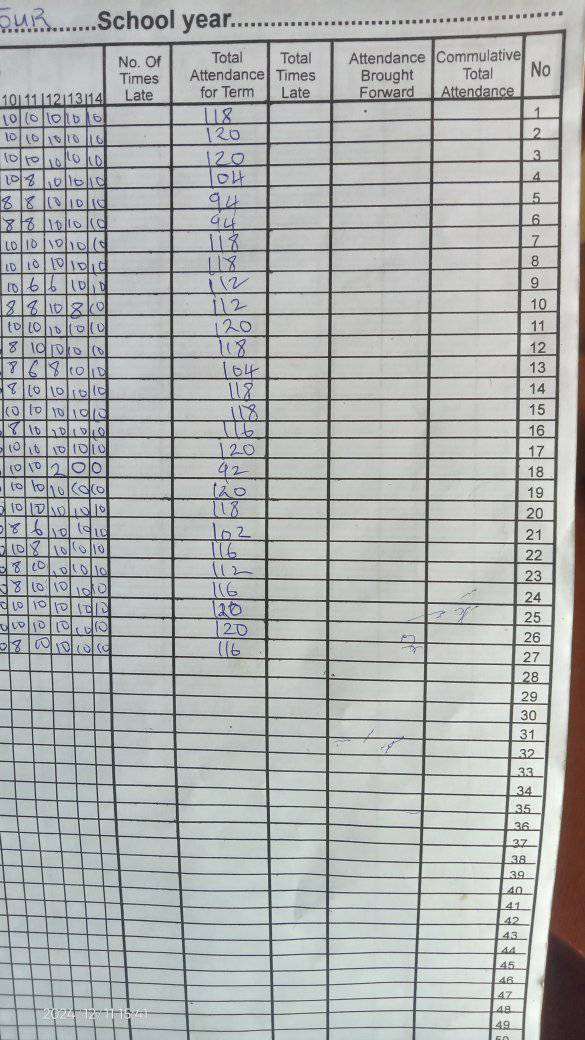table: (0, 108, 552, 1040)
